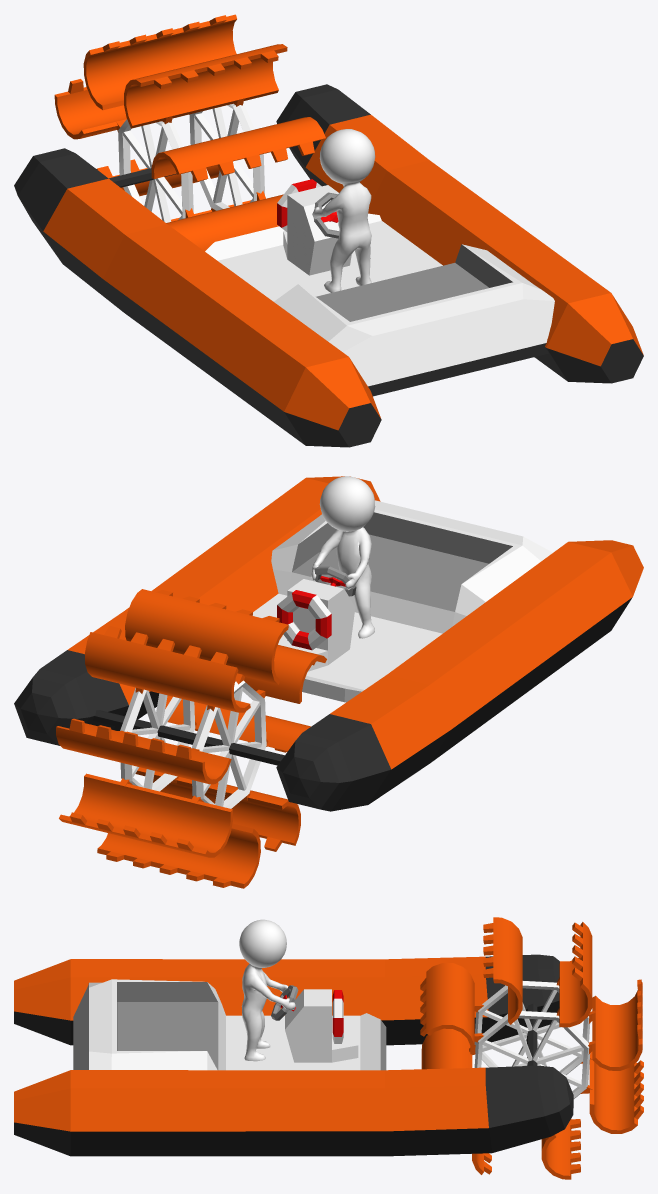
Rendered from catamaran.fbx.
The picture shows the model from 3 angles, top to bottom: view 1: azimuth 30°, elevation 25°; view 2: azimuth 150°, elevation 25°; view 3: azimuth 270°, elevation 25°; orthographic projection. The views are drawn at different scales.
Visible parts, largest first — view 1: Catamaran, Blades, Stickman; view 2: Catamaran, Blades, Stickman; view 3: Catamaran, Blades, Stickman.
Part boxes in pixels (x1,y1,x2,y2): Catamaran: [14, 84, 643, 447]; Blades: [54, 14, 325, 251]; Stickman: [312, 129, 375, 292]; Catamaran: [14, 476, 643, 811]; Blades: [56, 589, 326, 888]; Stickman: [311, 476, 375, 638]; Catamaran: [14, 954, 573, 1156]; Blades: [420, 917, 643, 1179]; Stickman: [239, 919, 295, 1061].
Bounding box in the file's own units: 128 × 92.3 × 231.
